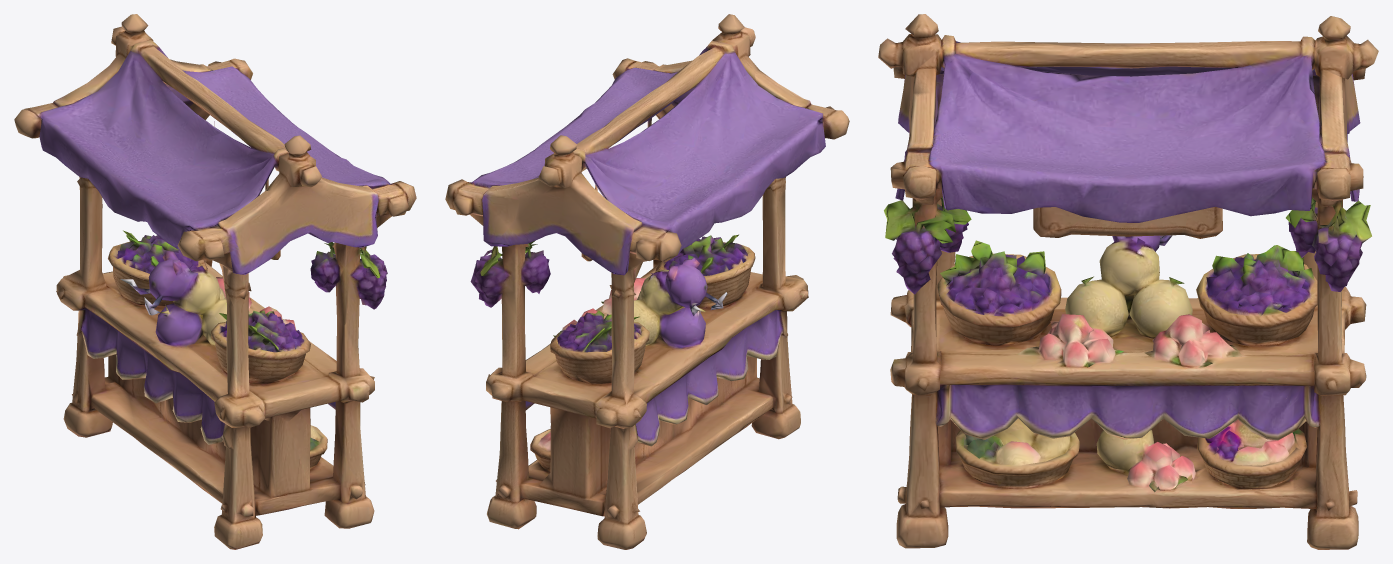
The model's file is stall_fruit.glb.
3 views of the same model, side by side, from view 1: azimuth 30°, elevation 25°; view 2: azimuth 150°, elevation 25°; view 3: azimuth 270°, elevation 25° (orthographic). The views are drawn at different scales.
Parts seen in each view (by area): view 1: tripo_node_bebe2e50-9c92-4e20-b9bb-4c3b46d2496b; view 2: tripo_node_bebe2e50-9c92-4e20-b9bb-4c3b46d2496b; view 3: tripo_node_bebe2e50-9c92-4e20-b9bb-4c3b46d2496b.
Part boxes in pixels (x1,y1,x2,y2): tripo_node_bebe2e50-9c92-4e20-b9bb-4c3b46d2496b: [14, 14, 416, 549]; tripo_node_bebe2e50-9c92-4e20-b9bb-4c3b46d2496b: [445, 14, 849, 549]; tripo_node_bebe2e50-9c92-4e20-b9bb-4c3b46d2496b: [878, 14, 1378, 549].
Size of the model in its own units: 0.4894 by 0.8 by 0.7331.
1 material, 1 textured.
